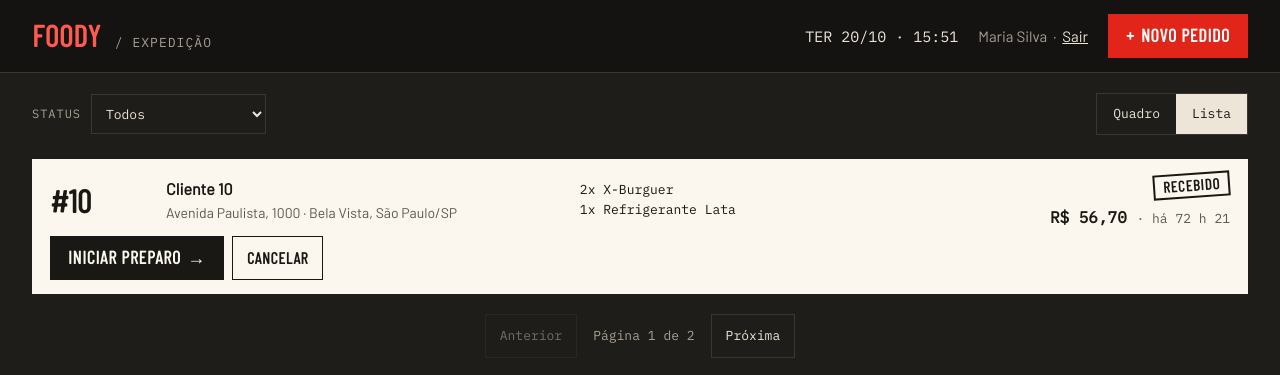
Test: OrdersPage list › paginates
Expected: the text "Página 1 de 2" is shown, [593,327,695,345]
Expected: the button "Anterior" is disabled, [485,314,577,358]
Click the button "Próxima" at (753, 336), box [711,314,795,358]
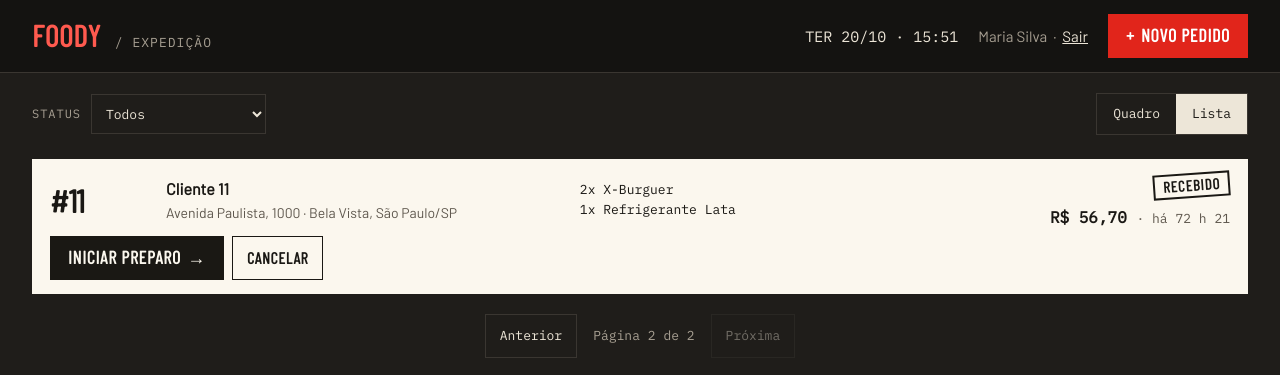
Expected: the list item with aria-label "Pedido #11" is shown, [32,159,1248,294]
Expected: the text "Página 2 de 2" is shown, [593,327,695,345]
Expected: the button "Próxima" is disabled, [711,314,795,358]
